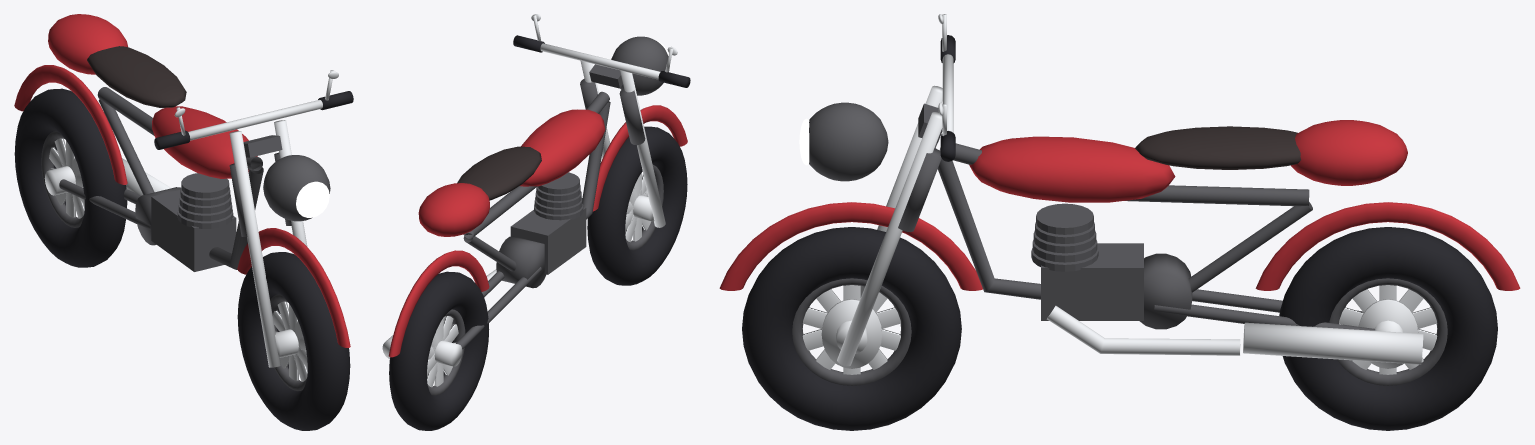
The model's file is motorcycle.glb.
3 views of the same model, side by side, from view 1: azimuth 30°, elevation 25°; view 2: azimuth 150°, elevation 25°; view 3: azimuth 270°, elevation 25° (orthographic). The views are drawn at different scales.
Parts seen in each view (by area): view 1: wiel_achter_band, wiel_voor_band, zadel, motorblok, tank, vork_l, zadelkont, spatbord_achter, koplamp_emmer, spatbord_voor, stuur, frame_zadelstang (+24 smaller); view 2: wiel_achter_band, wiel_voor_band, tank, zadelkont, motorblok, zadel, spatbord_achter, koplamp_emmer, bak, spatbord_voor, vork_l, frame_hoofdbuis (+22 smaller); view 3: wiel_voor_band, wiel_achter_band, tank, spatbord_achter, motorblok, zadelkont, zadel, spatbord_voor, demper, koplamp_emmer, vork_r, uitlaatbocht (+14 smaller).
Part boxes in pixels (x1,y1,x2,y2): wiel_achter_band: (14,88,127,267); wiel_voor_band: (237,252,350,430); zadel: (87,46,186,107); motorblok: (151,190,236,271); tank: (152,106,257,178); vork_l: (229,131,280,367); zadelkont: (48,14,127,74); spatbord_achter: (14,65,127,184); koplamp_emmer: (263,155,330,221); spatbord_voor: (237,228,350,347); stuur: (188,99,322,140); frame_zadelstang: (98,99,154,194); wiel_achter_band: (389,271,489,430); wiel_voor_band: (587,126,687,285); tank: (520,109,605,186); zadelkont: (418,183,489,236); motorblok: (510,207,586,274); zadel: (457,146,541,200); spatbord_achter: (388,250,489,357); koplamp_emmer: (611,36,669,95); bak: (496,236,546,288); spatbord_voor: (593,105,687,211); vork_l: (620,70,665,227); frame_hoofdbuis: (463,91,609,238); wiel_voor_band: (742,227,961,430); wiel_achter_band: (1279,227,1497,430); tank: (969,136,1175,202); spatbord_achter: (1255,202,1520,290); motorblok: (1041,243,1143,320); zadelkont: (1291,120,1407,185); zadel: (1135,126,1300,169); spatbord_voor: (719,202,982,290); demper: (1243,322,1423,364); koplamp_emmer: (809,102,888,181); vork_r: (837,112,942,366); uitlaatbocht: (1047,305,1240,355).
Size of the model in its own units: 0.78 by 1.19 by 2.33.
